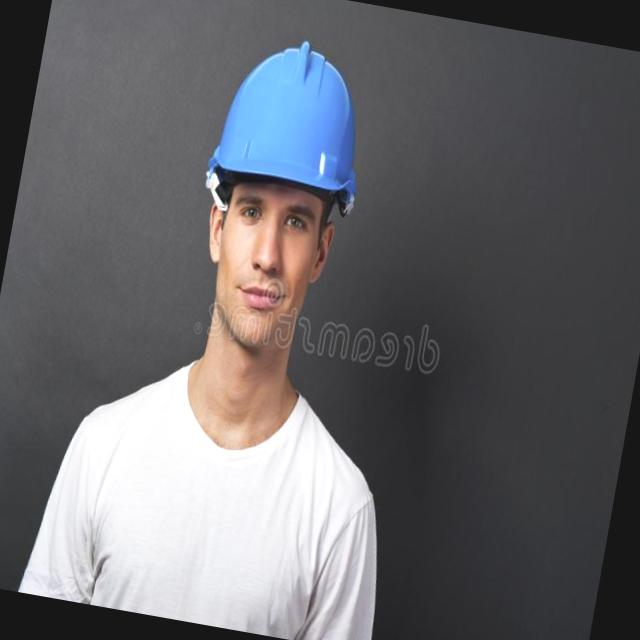helmet: (194, 21, 391, 220)
no-vest: (17, 336, 415, 636)
